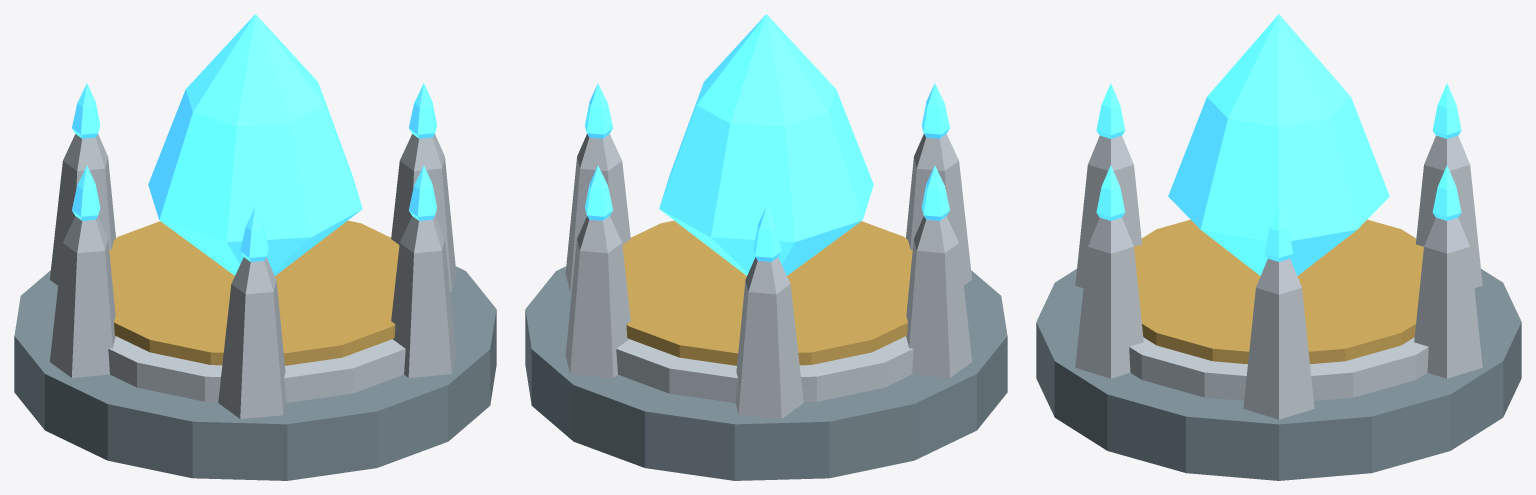
The model's file is lux_core_candidate.glb.
3 views of the same model, side by side, from view 1: azimuth 30°, elevation 25°; view 2: azimuth 150°, elevation 25°; view 3: azimuth 270°, elevation 25° (orthographic).
Parts seen in each view (by area): view 1: lux_core; view 2: lux_core; view 3: lux_core.
Boxes of the visible parts, <box> form: lux_core: <box>14,14,496,480</box>; lux_core: <box>525,14,1007,480</box>; lux_core: <box>1036,14,1521,480</box>.
Size of the model in its own units: 7 by 5.8 by 7.
